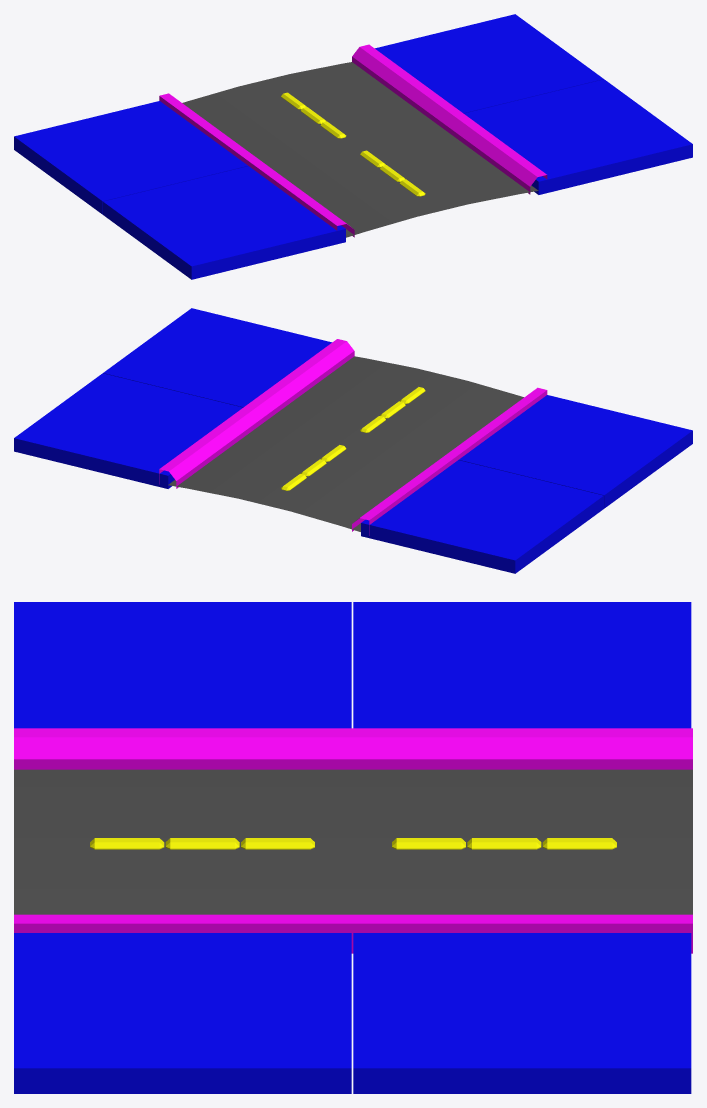
File: SM_Tile_droit.fbx
3 renders of one model, top to bottom at view 1: azimuth 30°, elevation 25°; view 2: azimuth 150°, elevation 25°; view 3: azimuth 270°, elevation 25°, orthographic. The views are drawn at different scales.
Parts seen in each view (by area): view 1: SM_Tile_droit; view 2: SM_Tile_droit; view 3: SM_Tile_droit.
Boxes of the visible parts, box(x1,y1,x2,y2) form: SM_Tile_droit: box(14, 14, 692, 279); SM_Tile_droit: box(14, 308, 692, 573); SM_Tile_droit: box(14, 602, 692, 1093).
Bounding box in the file's own units: 1300 × 45.19 × 800.
